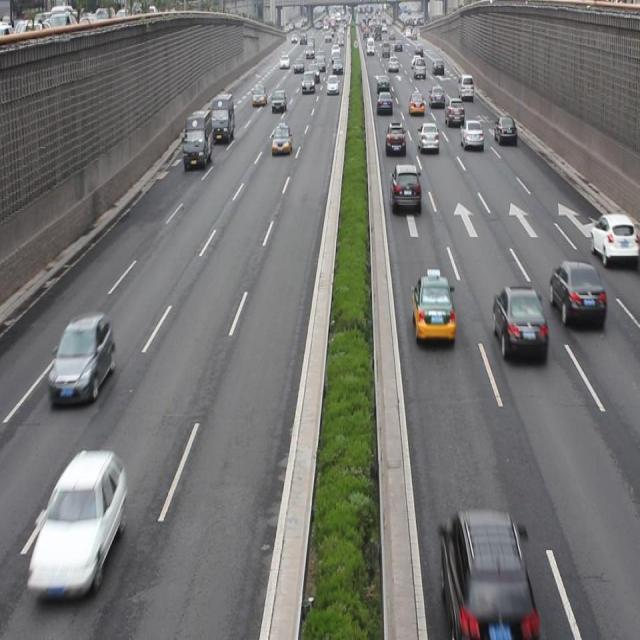car: (31, 450, 125, 591), (442, 508, 536, 640), (47, 313, 114, 403), (492, 284, 546, 362), (550, 259, 605, 328), (410, 274, 455, 343), (587, 212, 640, 262), (384, 122, 406, 157), (459, 118, 483, 150), (416, 122, 439, 154), (493, 114, 516, 146), (271, 121, 291, 155), (444, 96, 464, 128)
truck: (182, 109, 213, 170), (389, 162, 422, 214), (208, 94, 234, 144)
